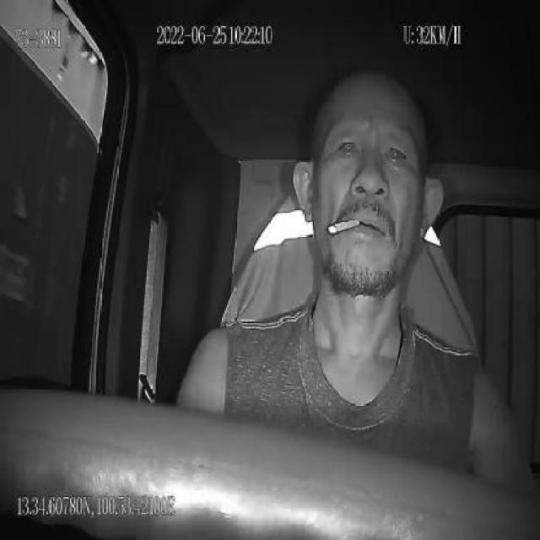smoking: (326, 216, 359, 235)
